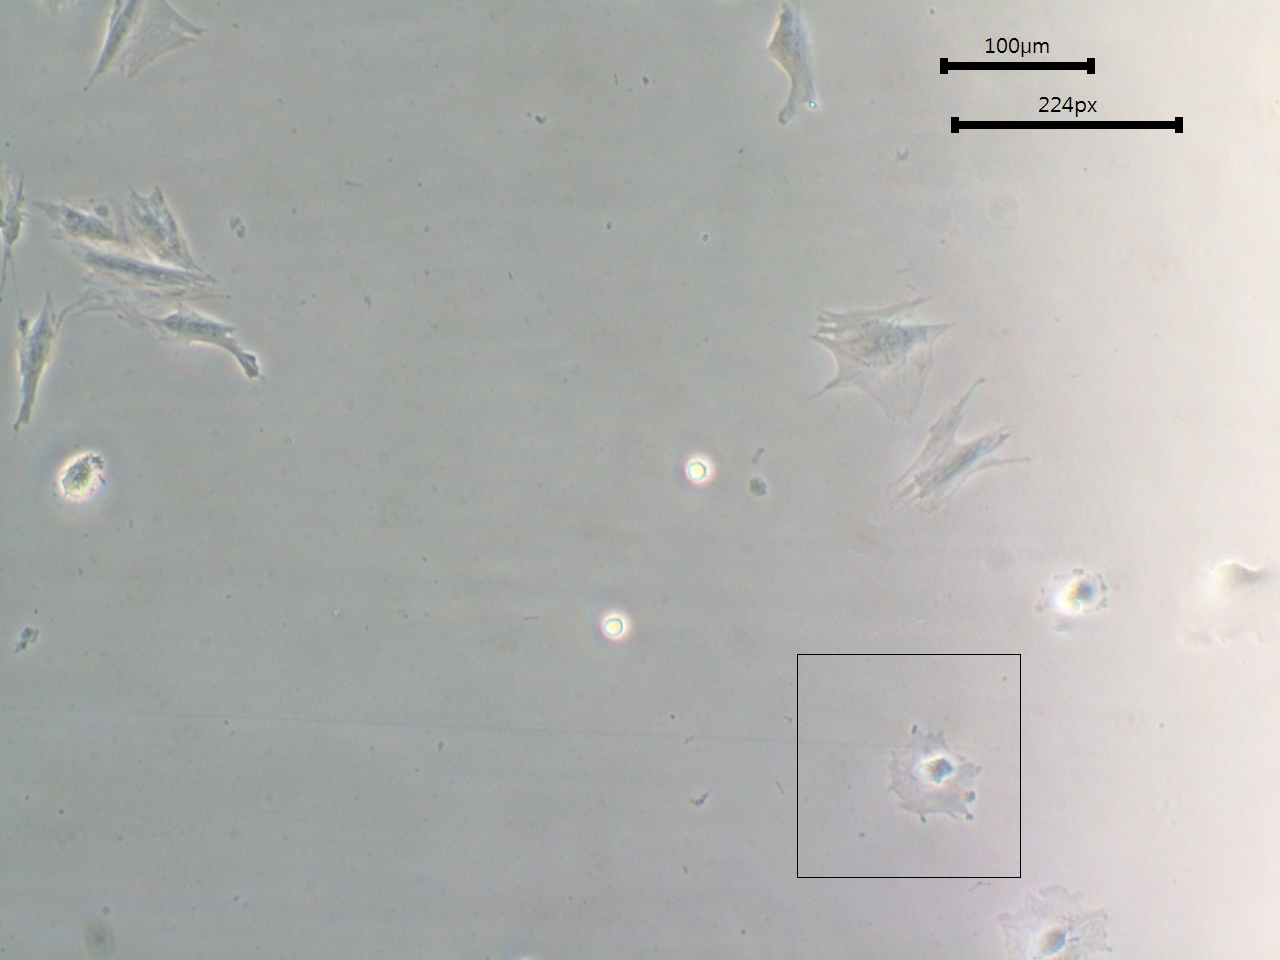medium-polygonal: (753, 1, 847, 130)
medium-spread: (796, 301, 956, 432), (874, 714, 991, 824), (992, 883, 1118, 960)
small-round: (1024, 553, 1124, 650)
spindle: (902, 386, 1035, 541)
